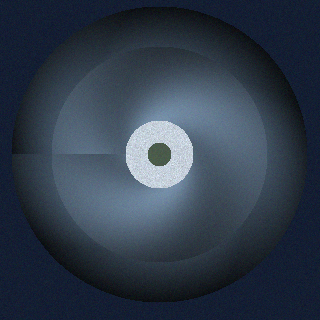cyclone_body: (46, 41, 272, 267)
cyclone_eye: (146, 141, 172, 167)
